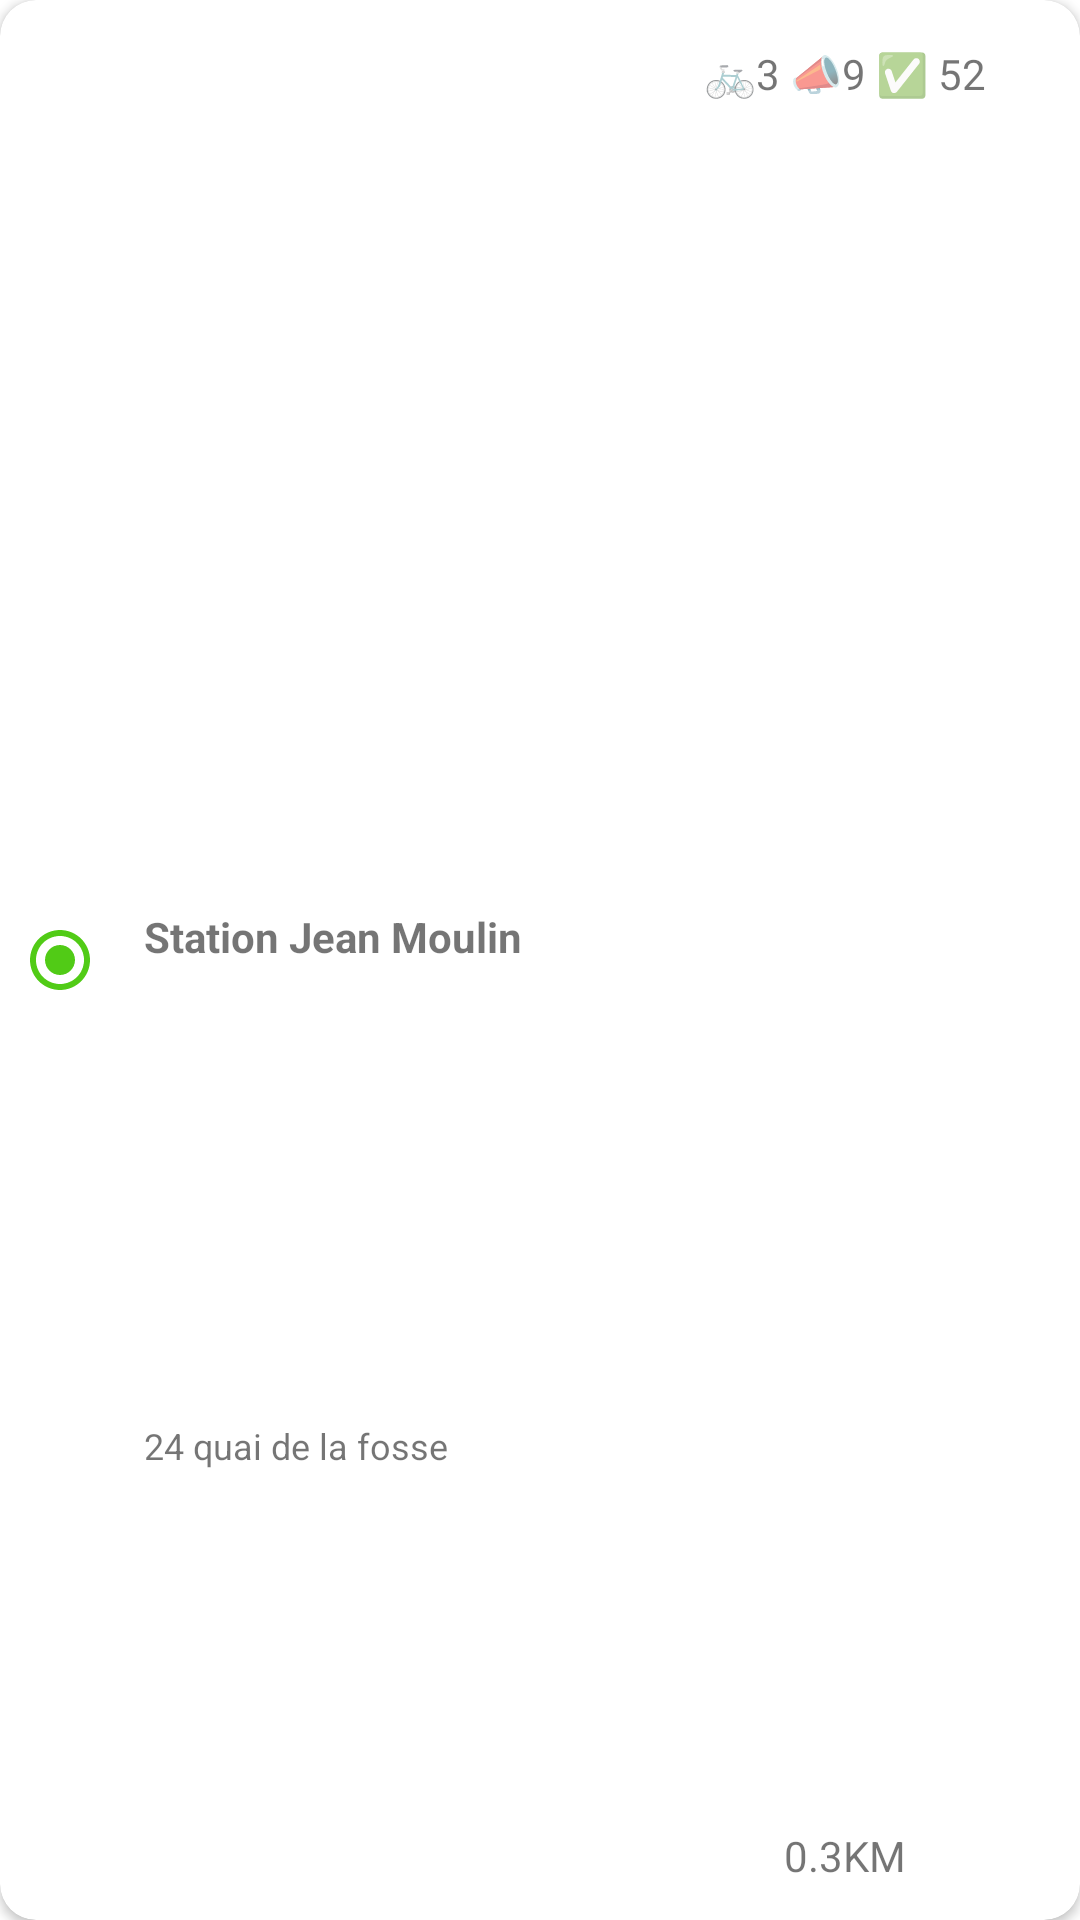

Icon click points for this 1080 x 1920 phone screenshot, format (x=x, y=y):
radio checked: (x=60, y=960)
